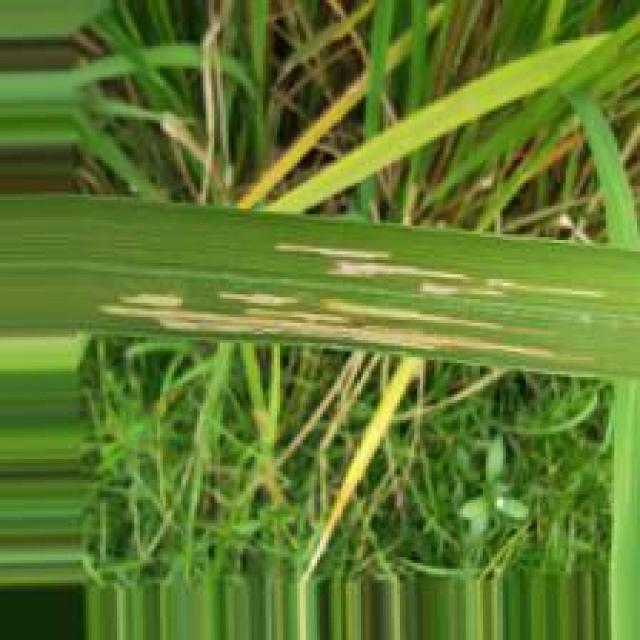Rice_Hispa: (100, 292, 573, 357), (212, 292, 502, 329), (279, 243, 505, 281)
